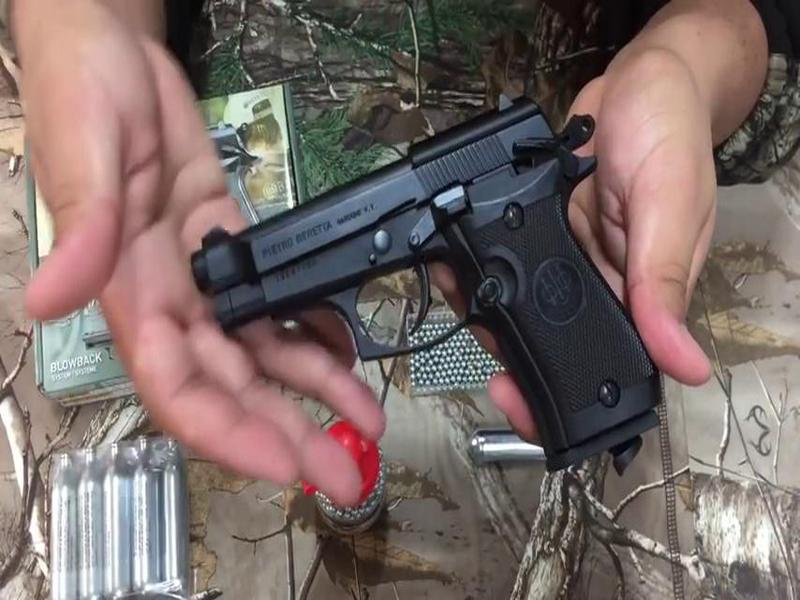Pistola: (163, 112, 649, 461)
